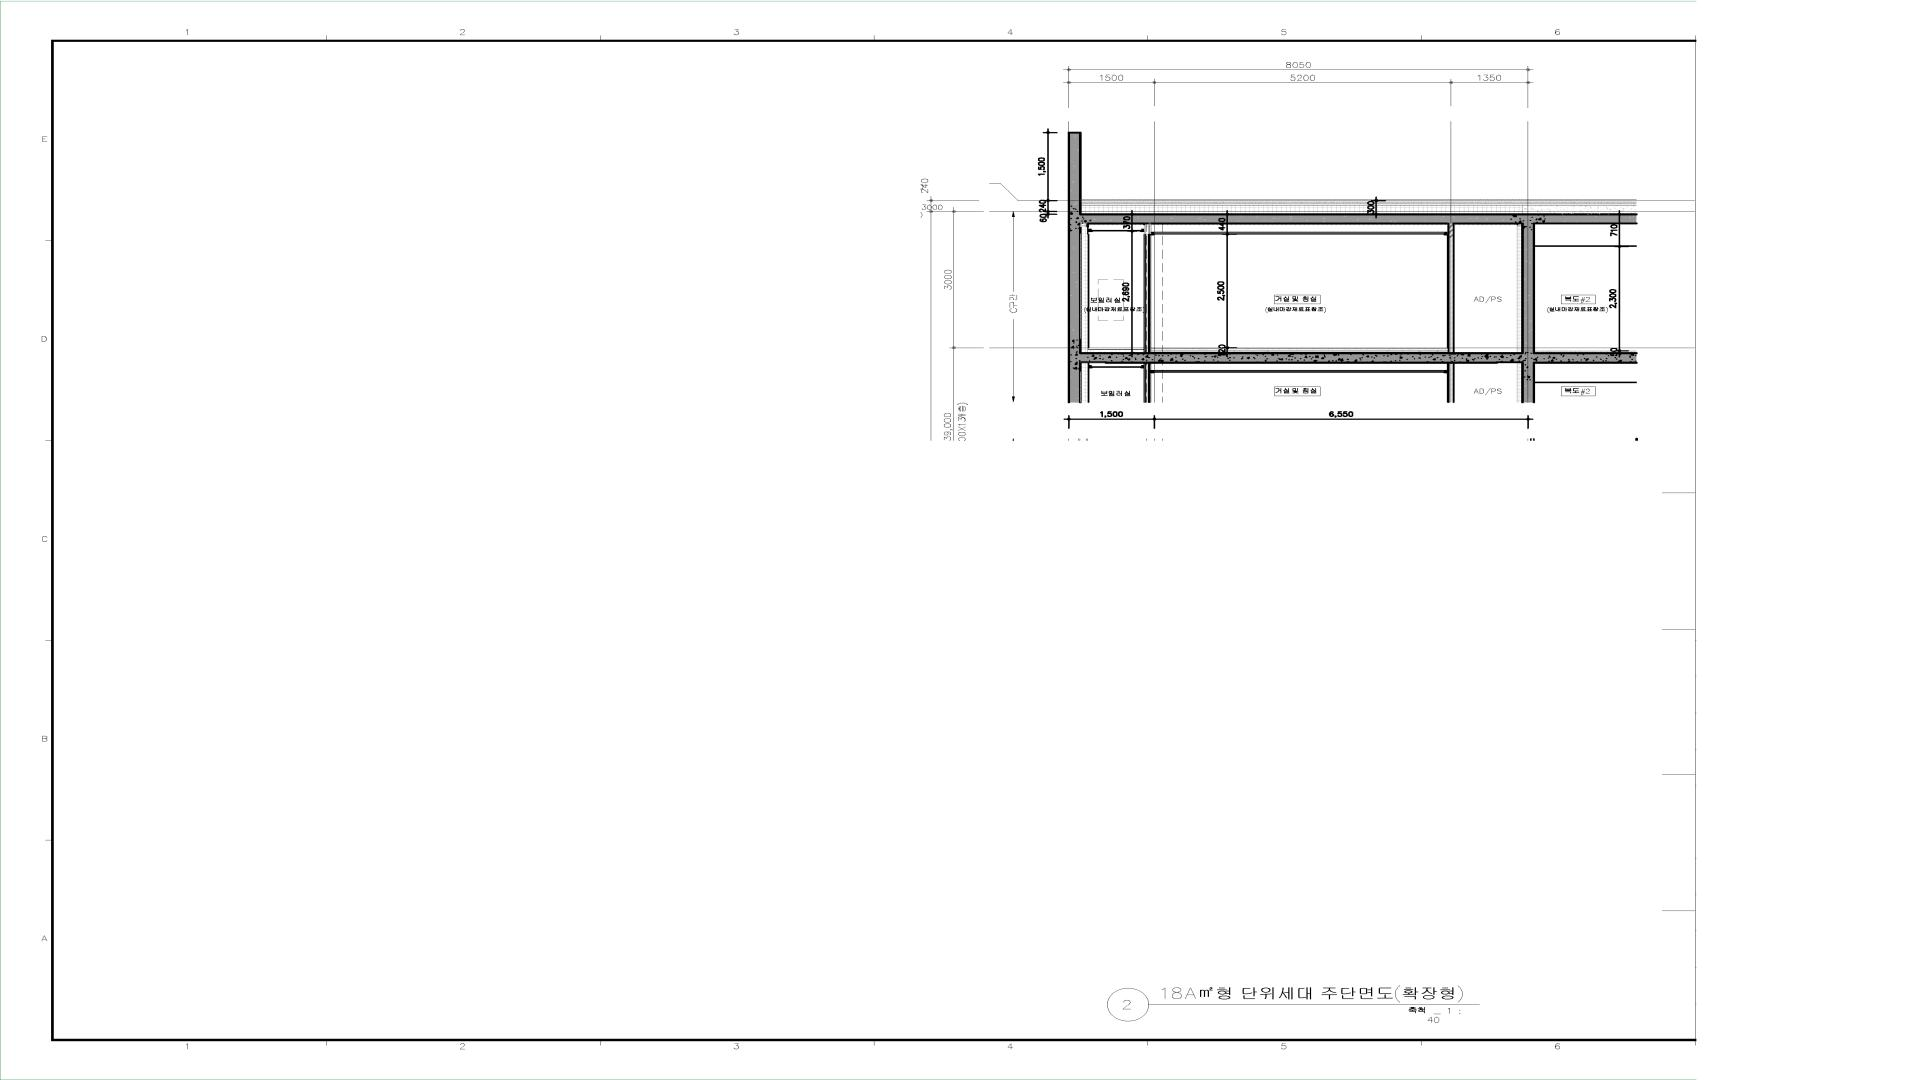wall: (1068, 214, 1535, 363), (1145, 223, 1151, 352), (1448, 224, 1455, 352)
